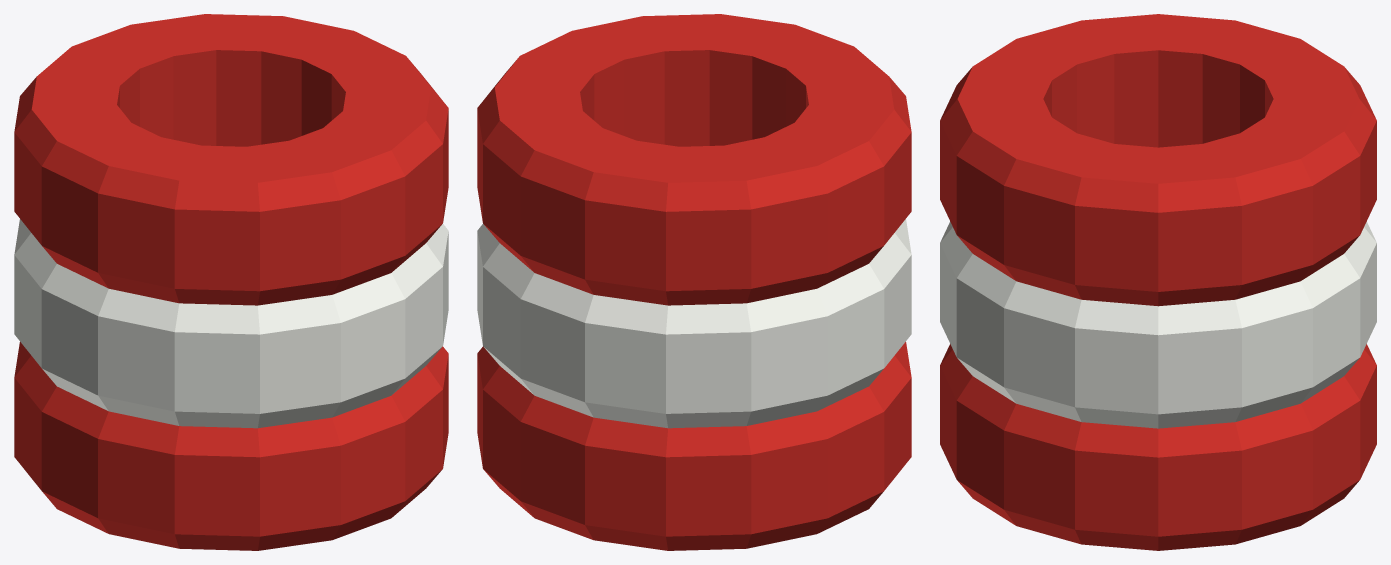
File: tire_stack_red_white.glb
3 renders of one model, left to right at view 1: azimuth 30°, elevation 25°; view 2: azimuth 150°, elevation 25°; view 3: azimuth 270°, elevation 25°, orthographic.
Parts seen in each view (by area): view 1: tire_stack_red_white__static; view 2: tire_stack_red_white__static; view 3: tire_stack_red_white__static.
Boxes of the visible parts, x1,y1,x2,y2 form: tire_stack_red_white__static: (14,14,448,550); tire_stack_red_white__static: (477,14,911,550); tire_stack_red_white__static: (940,14,1376,550).
Bounding box in the file's own units: 1.1 × 1.02 × 1.1.
